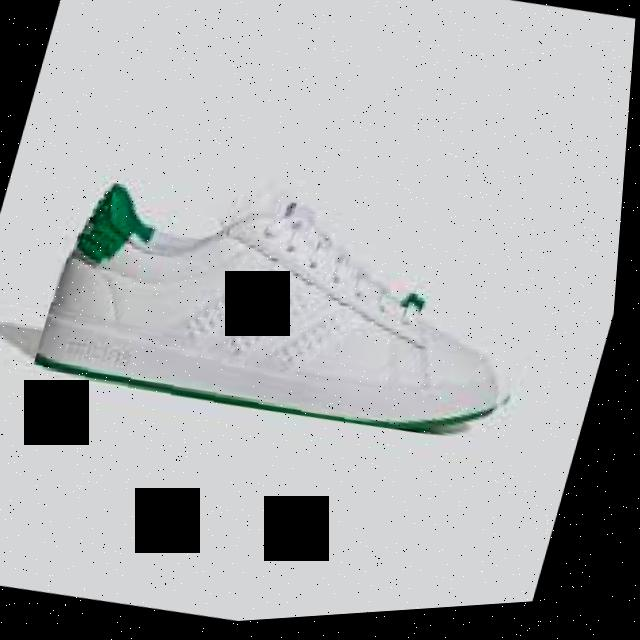shoe: (30, 151, 569, 478)
